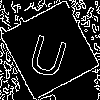U: (25, 25, 74, 80)
